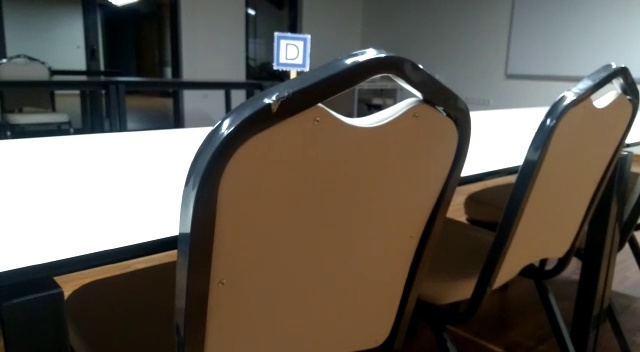durak: (274, 33, 310, 72)
